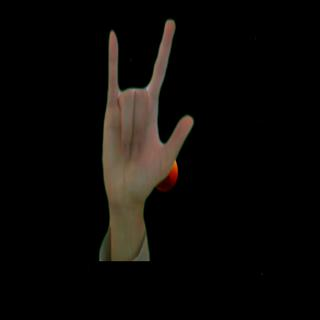ILY: (98, 17, 198, 211)
